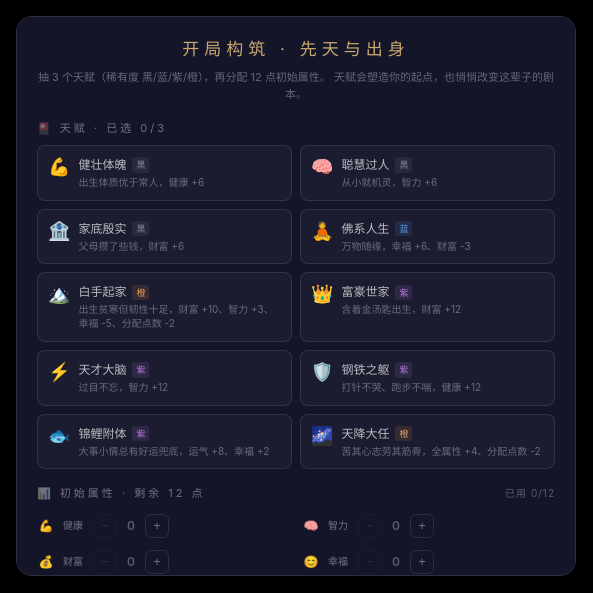
Scenario: BuildModal › 互斥天赋被置灰（选中一方后另一方禁用）
Click the button "白手起家" at [164, 307], box [37, 272, 292, 342]
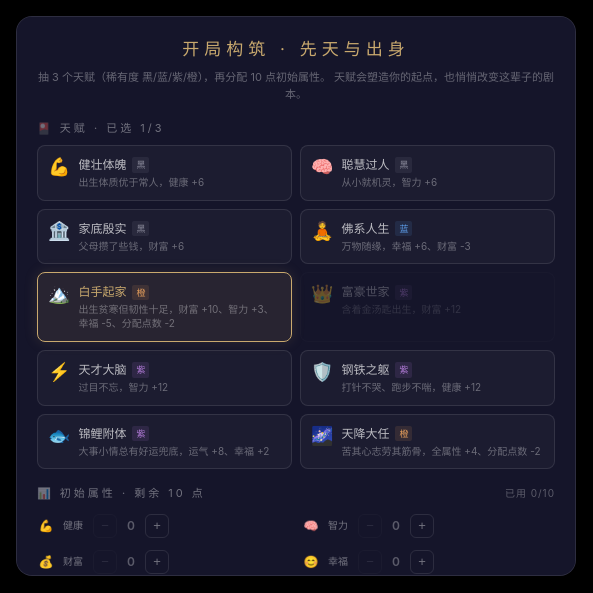
Now the button "👑 富豪世家 紫 含着金汤匙出生，财富 +12" is disabled, box [300, 272, 555, 342]
取消选择后恢复可用
Click the button "白手起家" at [164, 307], box [37, 272, 292, 342]
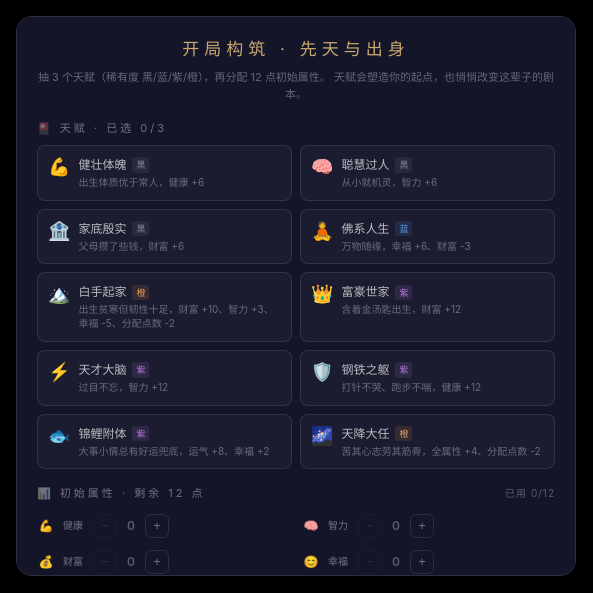
Now the button "👑 富豪世家 紫 含着金汤匙出生，财富 +12" is enabled, box [300, 272, 555, 342]
